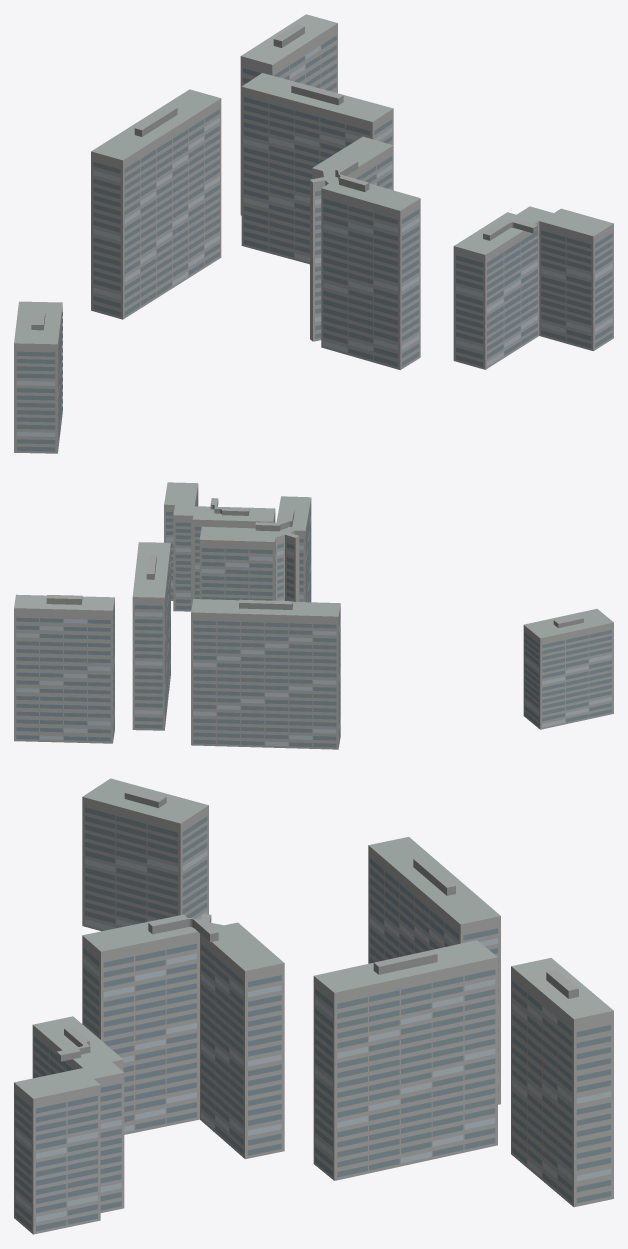
The model's file is apt-a13985406.glb.
The picture shows the model from 3 angles, top to bottom: view 1: azimuth 30°, elevation 25°; view 2: azimuth 150°, elevation 25°; view 3: azimuth 270°, elevation 25°; orthographic projection. The views are drawn at different scales.
Visible parts, largest first — view 1: apt-a13985406; view 2: apt-a13985406; view 3: apt-a13985406.
Boxes of the visible parts, box(x1,y1,x2,y2) form: apt-a13985406: box(14, 14, 613, 453); apt-a13985406: box(14, 482, 613, 749); apt-a13985406: box(14, 778, 613, 1234).
Bounding box in the file's own units: 207 × 58 × 161.
